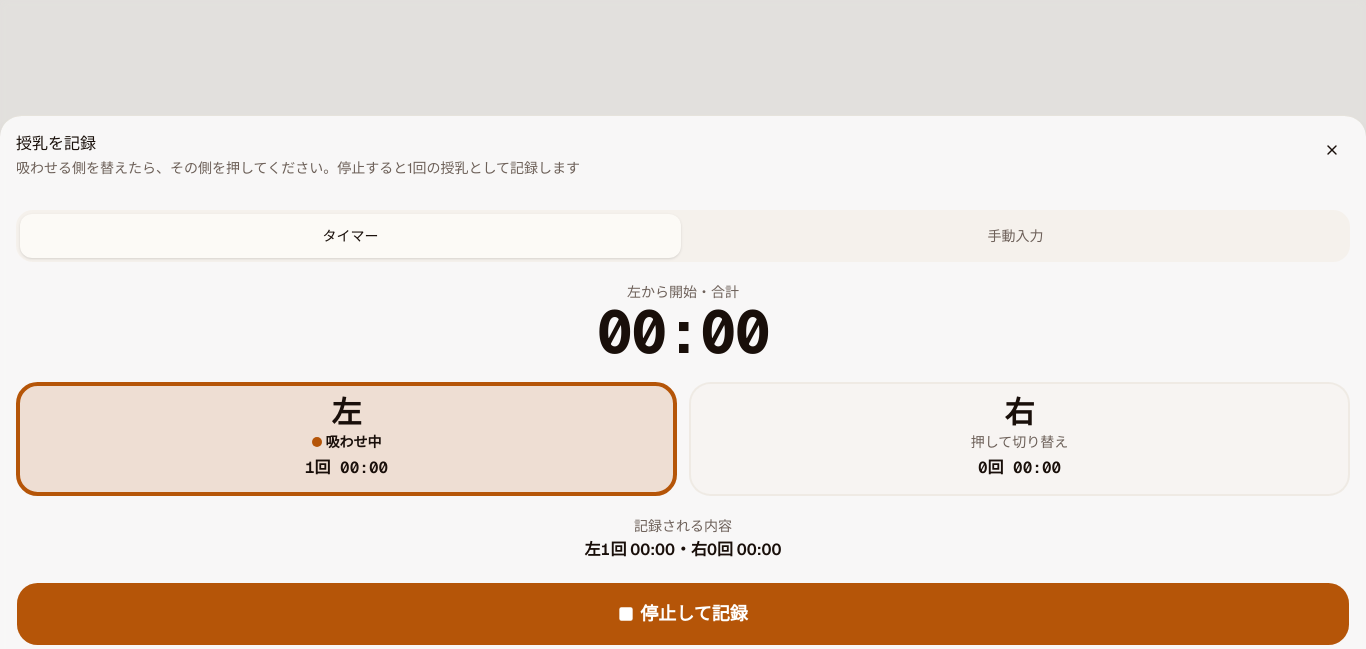
Test case: 応答不明の間に内容を変えようとする（AC05） › 確認するまで左右の時間・回数を変えられず、新しい id で登録し直さぬ
The width and height of the screenshot is (1366, 649).
Click the button "手動入力".
click(1016, 236)  # box [685,214,1346,258]
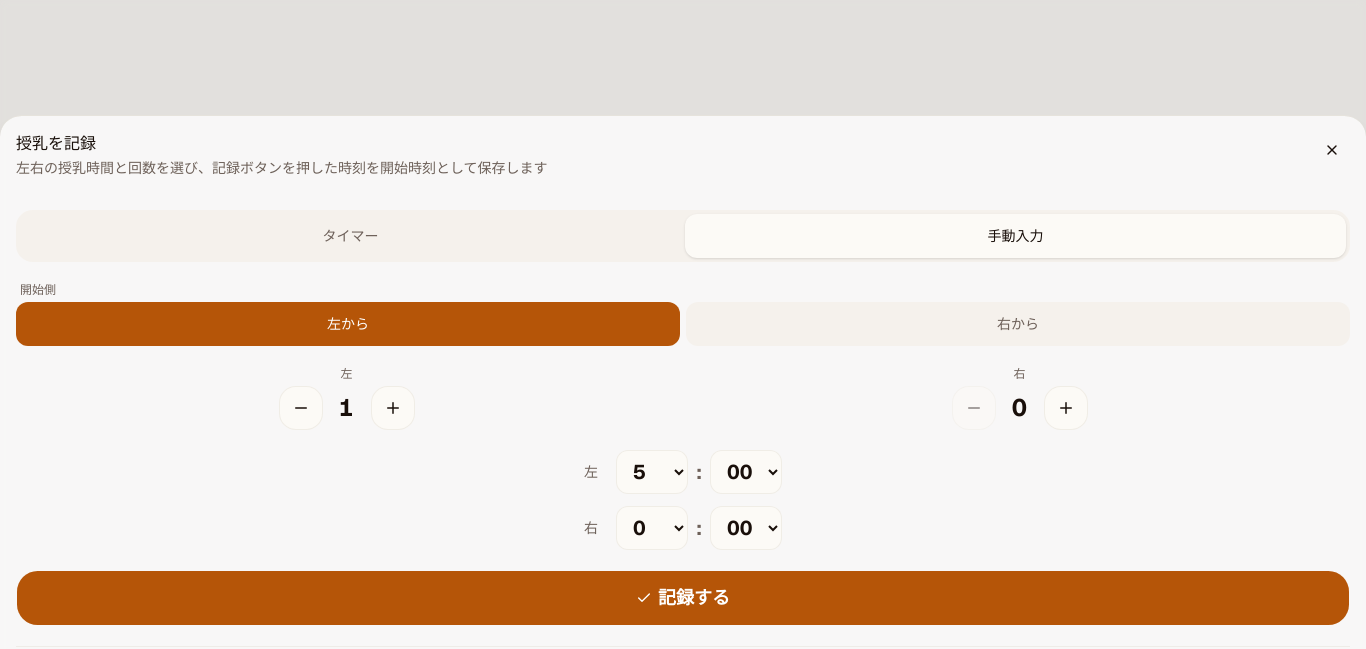
Click the button "記録する".
click(683, 598)  # box [16,570,1350,626]
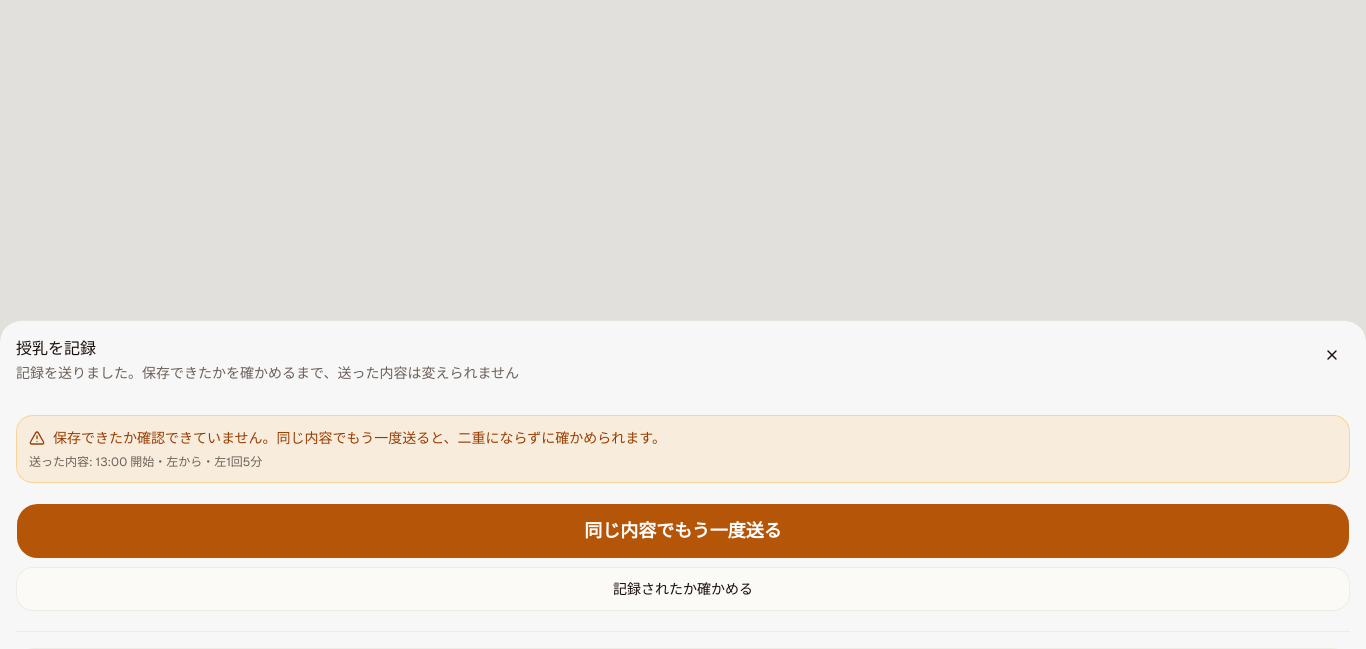
Check: the button "同じ内容でもう一度送る" is enabled, box [16,503,1350,559]
Check: the button "右から" is gone
Check: the text "保存できたか確認できていません。同じ内容でもう一度送ると、二重にならずに確かめられます。" is shown, box [29,429,666,447]
